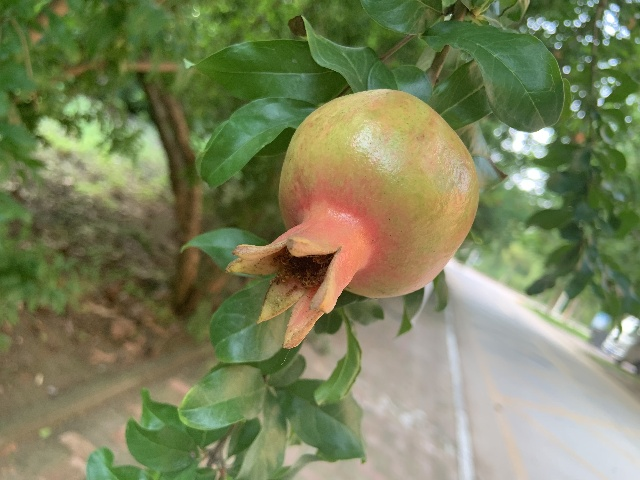mid-growth: (223, 87, 479, 352)
